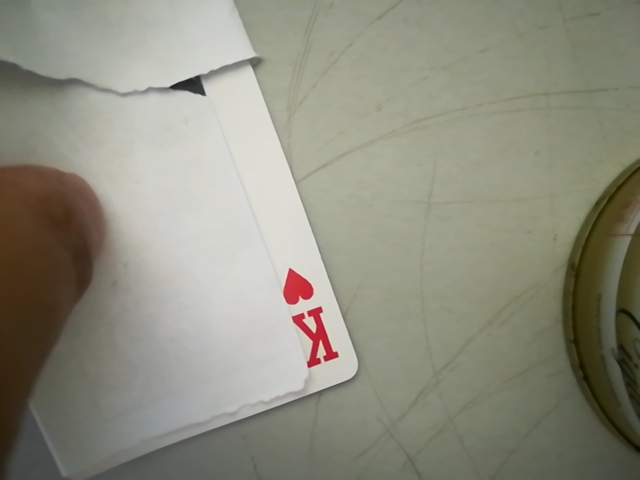hx k: (277, 262, 348, 383)
